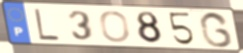3: (66, 9, 94, 42)
5: (167, 12, 196, 47)
8: (134, 10, 164, 45)
G: (198, 10, 235, 49)
L: (32, 7, 62, 42)
O: (98, 10, 132, 44)
